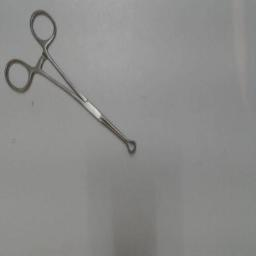Babcock Tissue Forceps: (0, 6, 140, 158)
